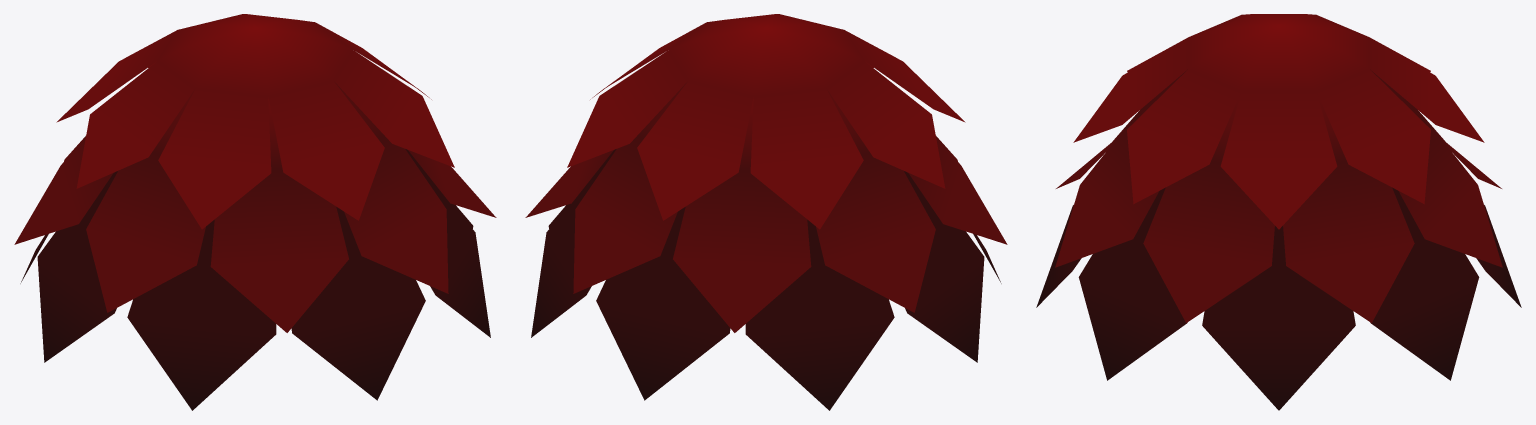
Rendered from Bush_plain.fbx.
The picture shows the model from 3 angles, left to right: view 1: azimuth 30°, elevation 25°; view 2: azimuth 150°, elevation 25°; view 3: azimuth 270°, elevation 25°; orthographic projection.
Visible parts, largest first — view 1: Bush_High; view 2: Bush_High; view 3: Bush_High.
Boxes of the visible parts, x1,y1,x2,y2 form: Bush_High: [14, 14, 496, 410]; Bush_High: [525, 14, 1007, 410]; Bush_High: [1036, 14, 1521, 410].
Size of the model in its own units: 0.4833 by 0.3101 by 0.4833.
